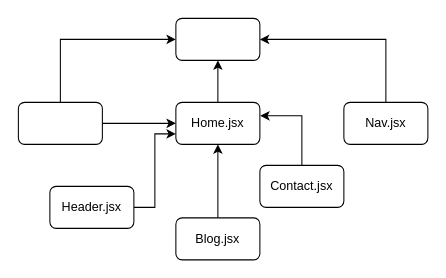
Some shapes in this 446 by 278 pixel diagram are drawn without their labels. The centre of each missing label's shape, as x and y in pixels:
App.js: [217,38]
Utilities.js: [59,122]
